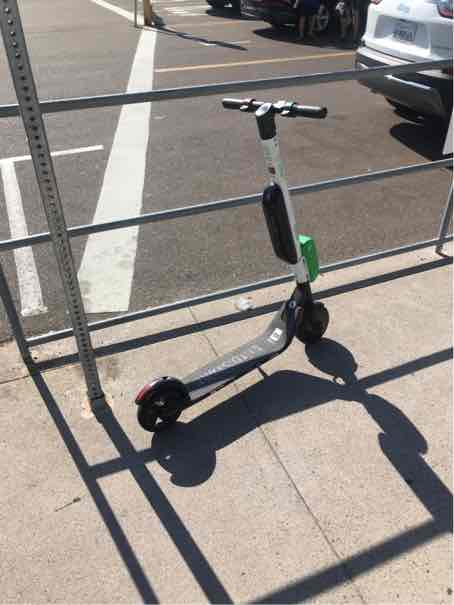scooter: (123, 86, 345, 452)
